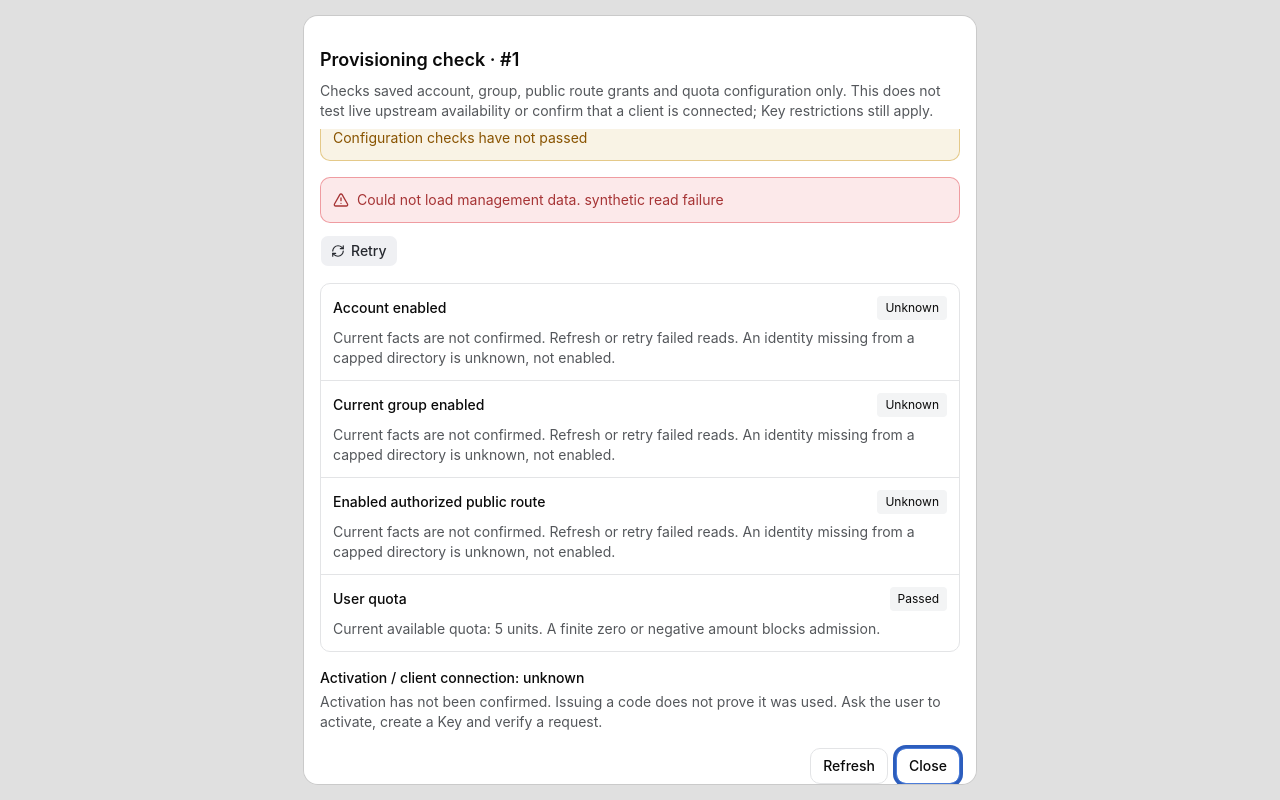
it: on-demand administrator provisioning facts › does not pass when /api/admin/users fails and recovers on refresh
The width and height of the screenshot is (1280, 800).
(page scrolled)
Expected: the message "Could not load management data. synthetic read failure" is shown, x1=320 y1=177 x2=960 y2=223
Expected: the text "Configuration checks passed" is not shown
What coordinates should you click on to do the following:
click the button "Refresh"
I would click on:
 (849, 766)
Its box is x1=810 y1=748 x2=888 y2=784.
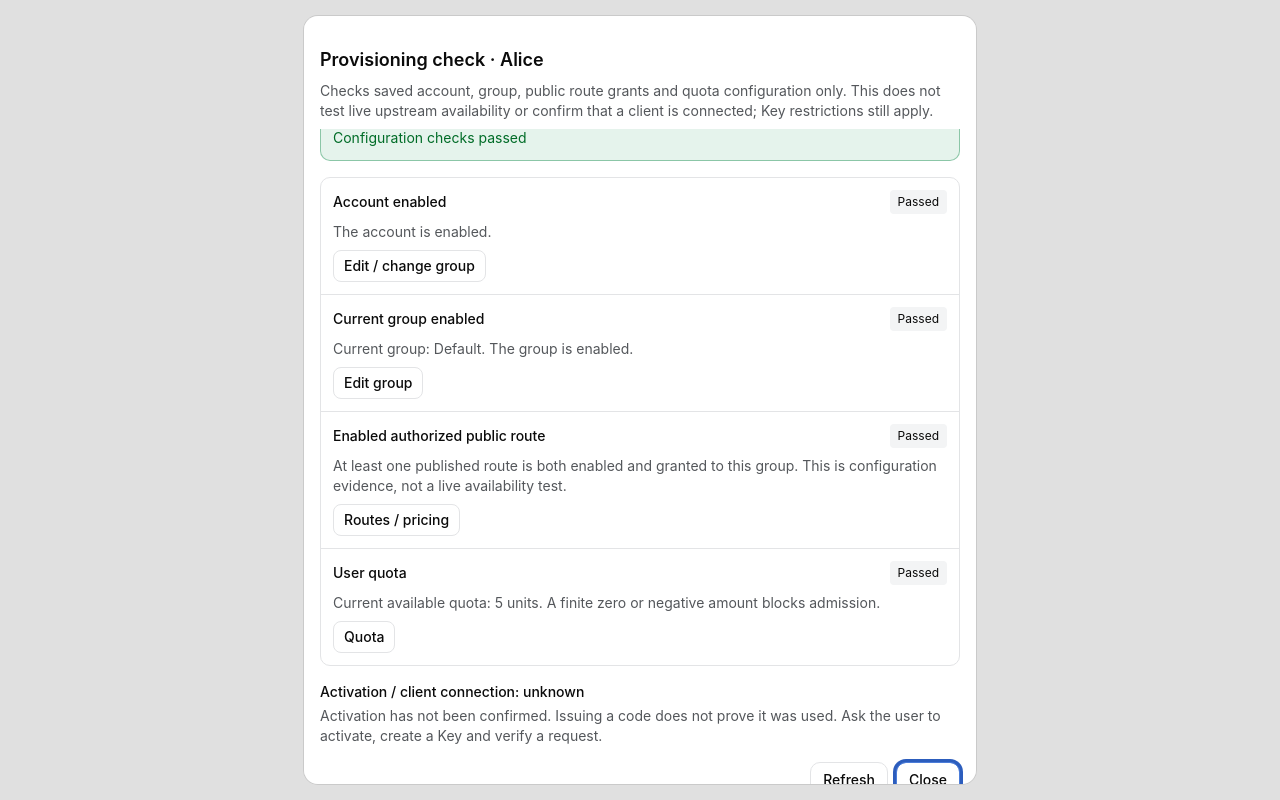
Now the text "Configuration checks passed" is shown, box x1=320 y1=115 x2=960 y2=161
